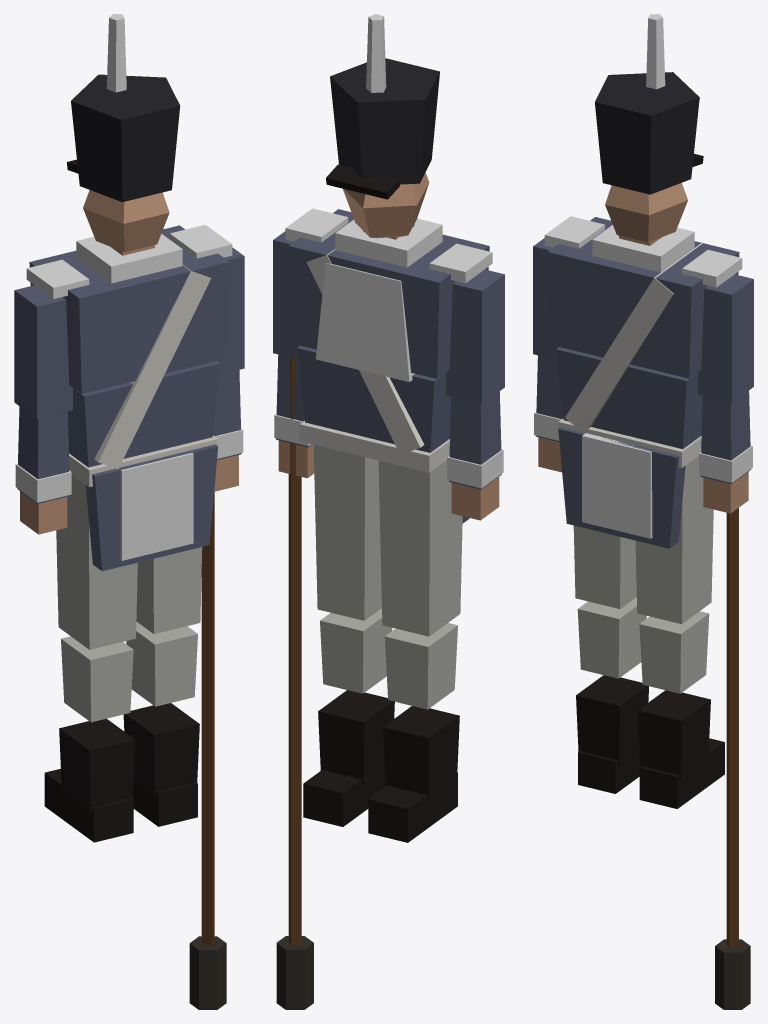
The model's file is soldier_c19_artillery_lod1.glb.
3 views of the same model, side by side, from view 1: azimuth 30°, elevation 25°; view 2: azimuth 150°, elevation 25°; view 3: azimuth 330°, elevation 25° (orthographic). The views are drawn at different scales.
Parts seen in each view (by area): view 1: c19_artillery_lod1_static; view 2: c19_artillery_lod1_static; view 3: c19_artillery_lod1_static.
Boxes of the visible parts, bbox=[...] form: c19_artillery_lod1_static: bbox=[14, 14, 244, 1009]; c19_artillery_lod1_static: bbox=[273, 14, 504, 1009]; c19_artillery_lod1_static: bbox=[533, 14, 753, 1009].
Size of the model in its own units: 0.58 by 2.68 by 0.297.
